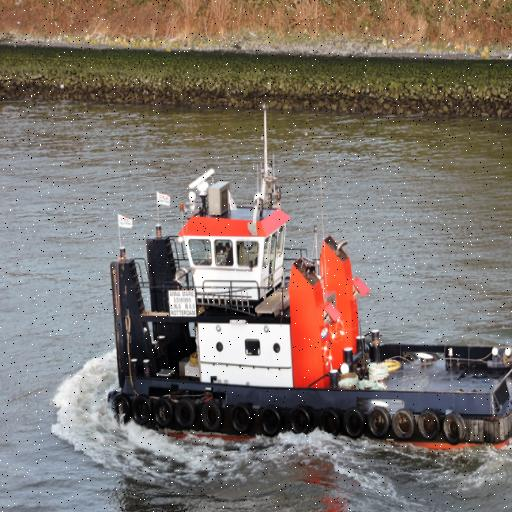tugboat: (103, 166, 512, 468)
